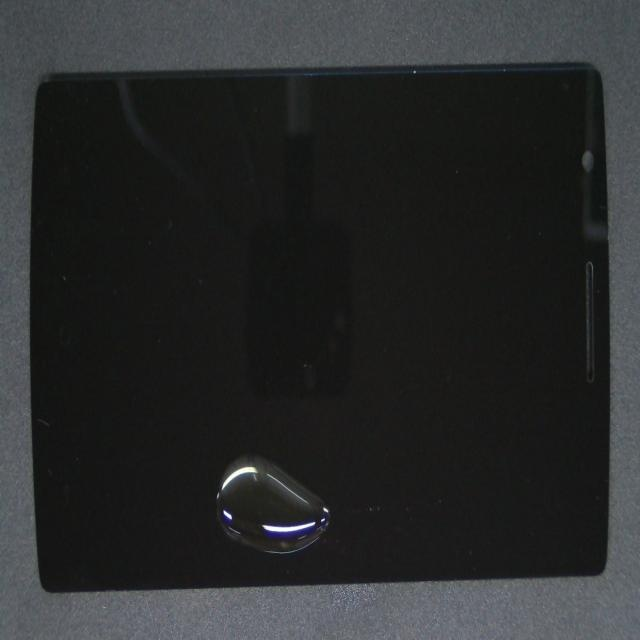oil: (208, 263, 446, 640)
